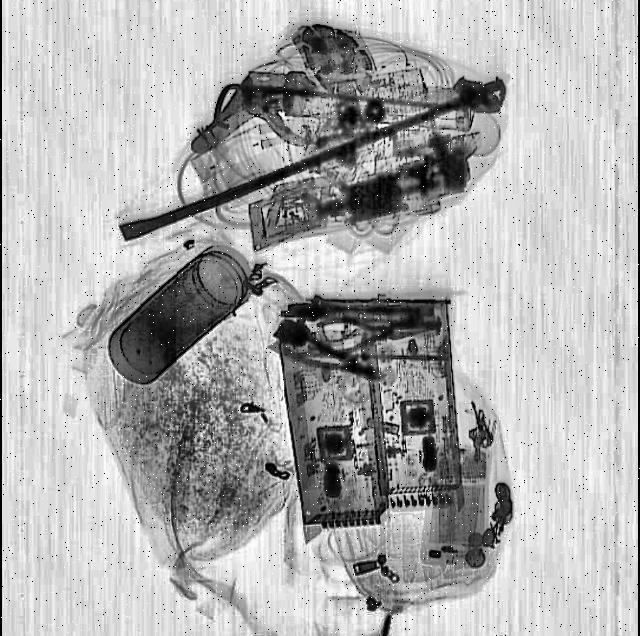Pliers: (280, 328, 380, 396), (306, 310, 436, 358)
